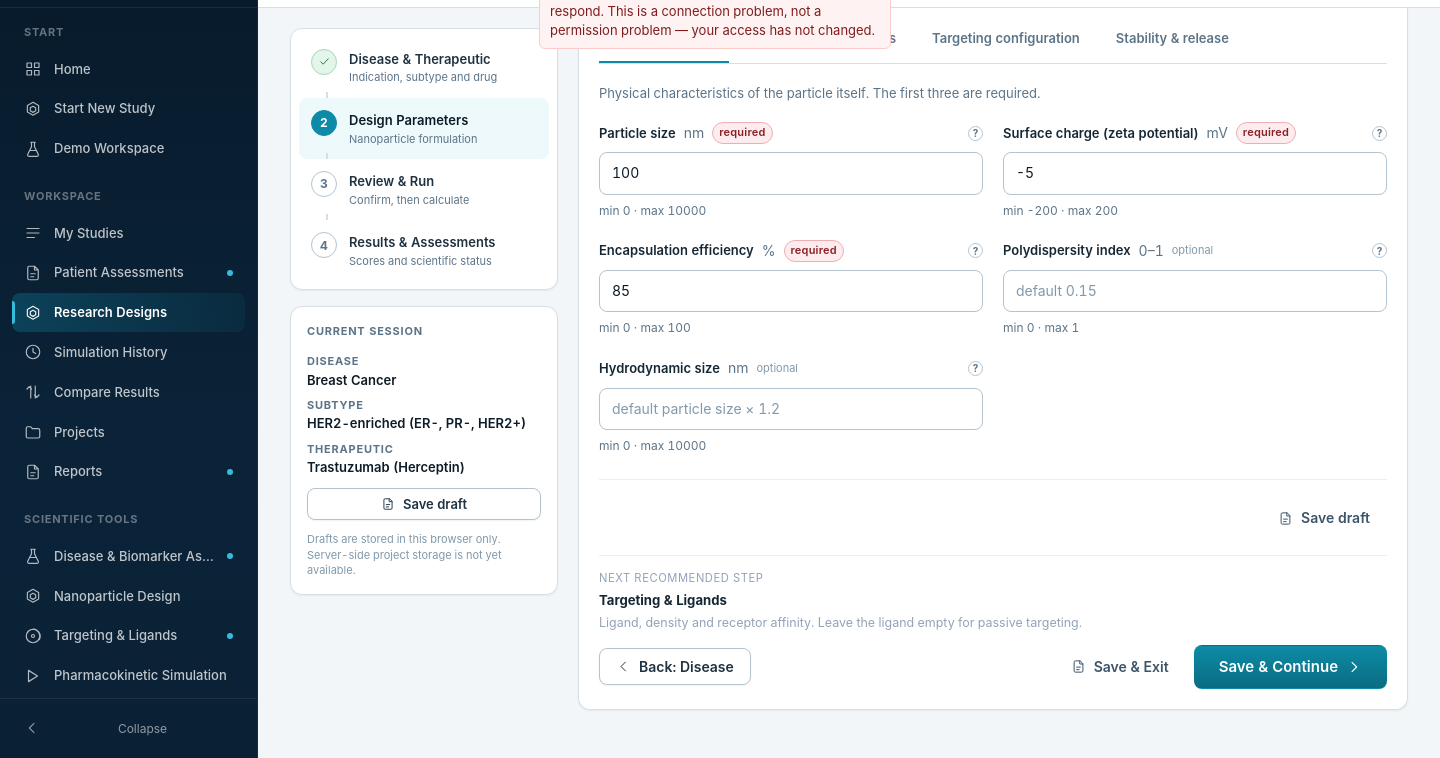
4. the controls appear and behave › moves forward along the pathway when Continue is pressed
(page scrolled)
Click the button with test id "pathway-continue". click: (1290, 667)
box: [1194,645,1387,689]
(page scrolled)
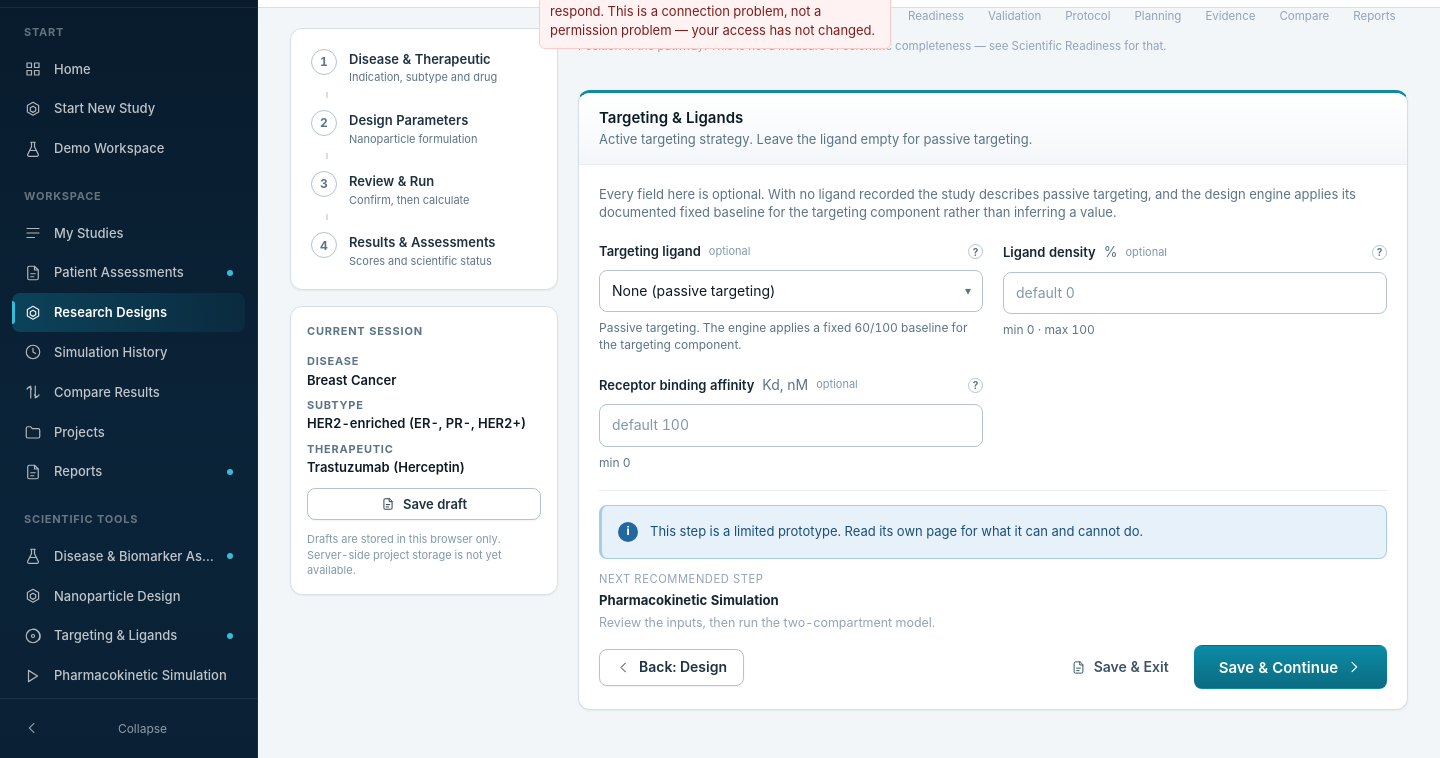
Expected: the heading "Targeting & Ligands" below "Next:" is shown, [599,108,743,127]
